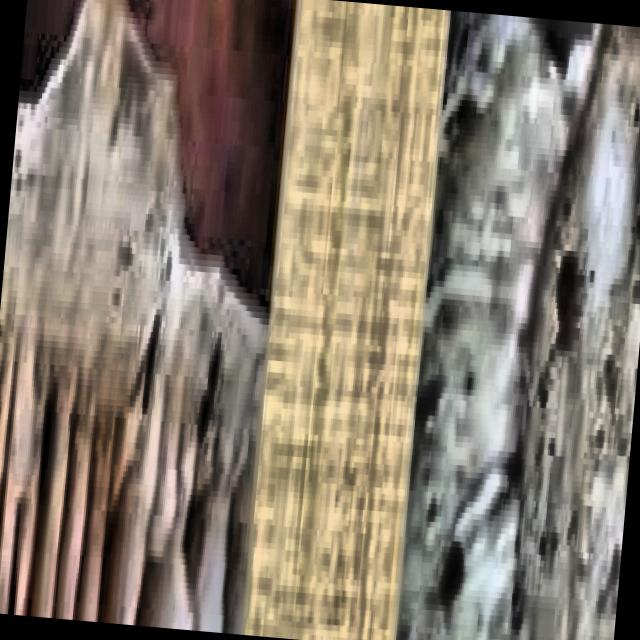Affected: (535, 57, 640, 640)
Healthy-Affected: (0, 201, 235, 630)
